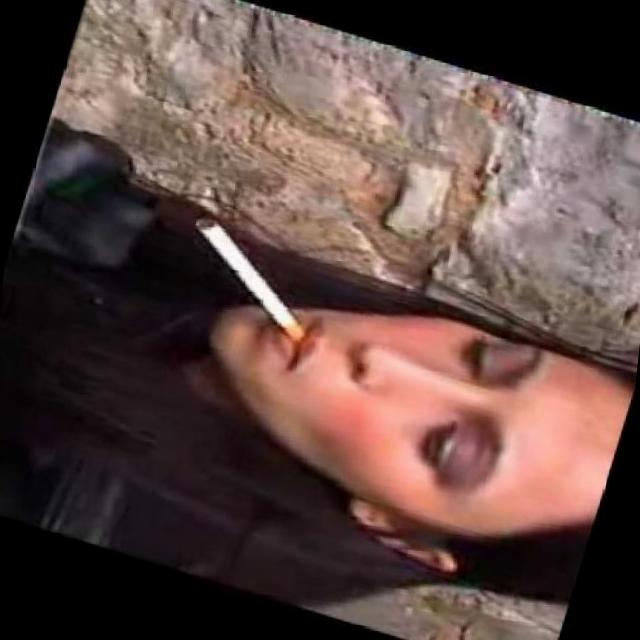cigarette: (156, 206, 338, 352)
